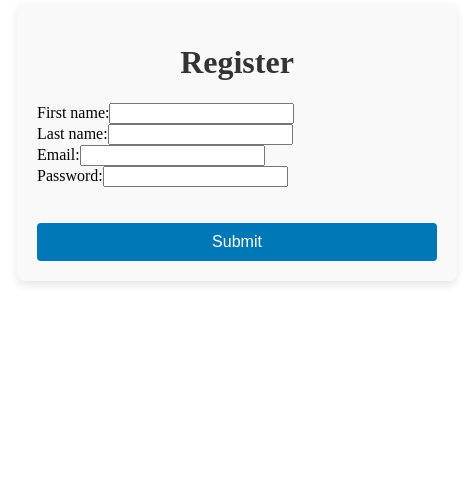
Scenario: Register Component › displays validation errors for invalid inputs
The image size is (475, 489).
Note: Submit form without filling any inputs
Click the button "Submit".
click(237, 242)  # box [37, 223, 437, 261]
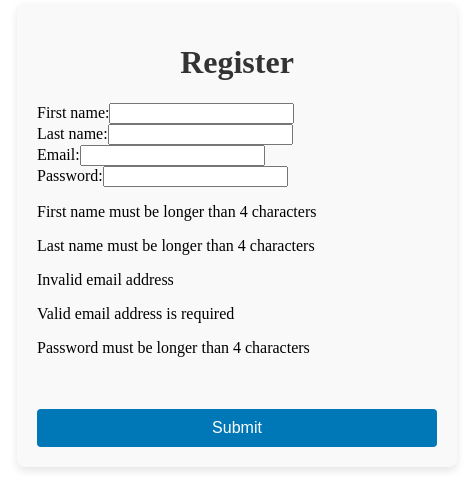
Check: the text "First name must be longer than 4 characters" is shown, box [37, 203, 316, 220]
Check: the text "Last name must be longer than 4 characters" is shown, box [37, 237, 315, 254]
Check: the text "Valid email address is required" is shown, box [37, 305, 234, 322]
